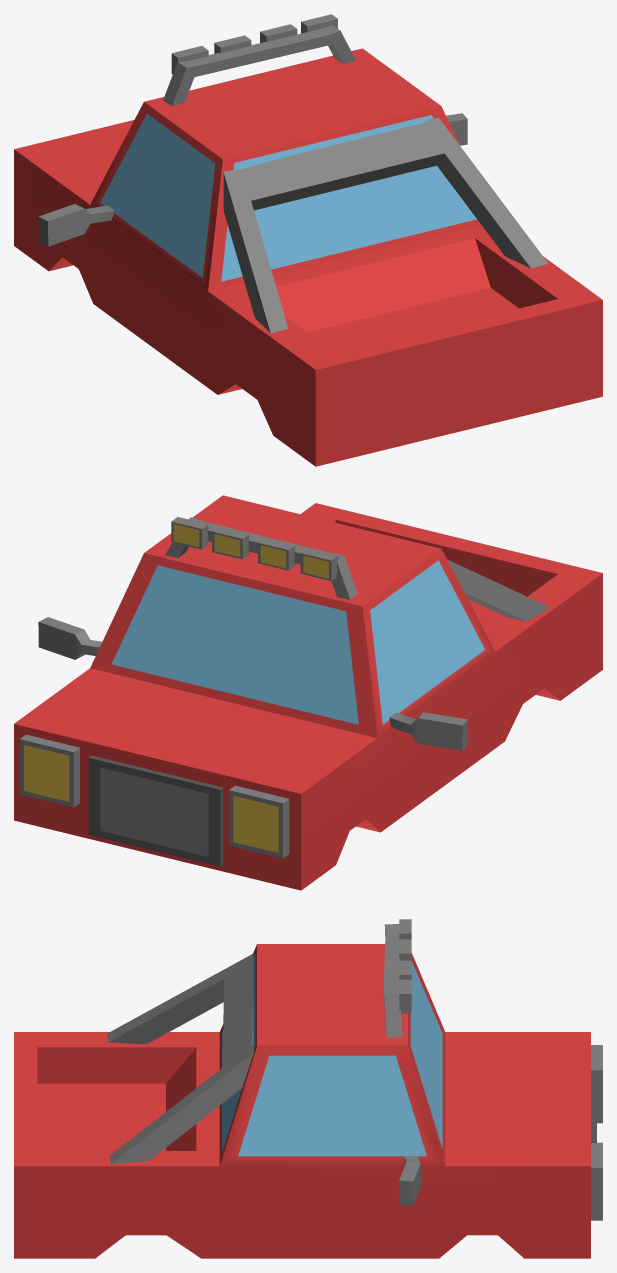
File: MonsterTruckBed.fbx
3 views of the same model, one above another, from view 1: azimuth 30°, elevation 25°; view 2: azimuth 150°, elevation 25°; view 3: azimuth 270°, elevation 25° (orthographic). The views are drawn at different scales.
Parts seen in each view (by area): view 1: MonsterTruckBed; view 2: MonsterTruckBed; view 3: MonsterTruckBed.
Part boxes in pixels (<box>): MonsterTruckBed: <box>14,14,602,466</box>; MonsterTruckBed: <box>14,495,602,890</box>; MonsterTruckBed: <box>14,919,602,1258</box>.
Size of the model in its own units: 0.2906 by 0.1609 by 0.3656.
